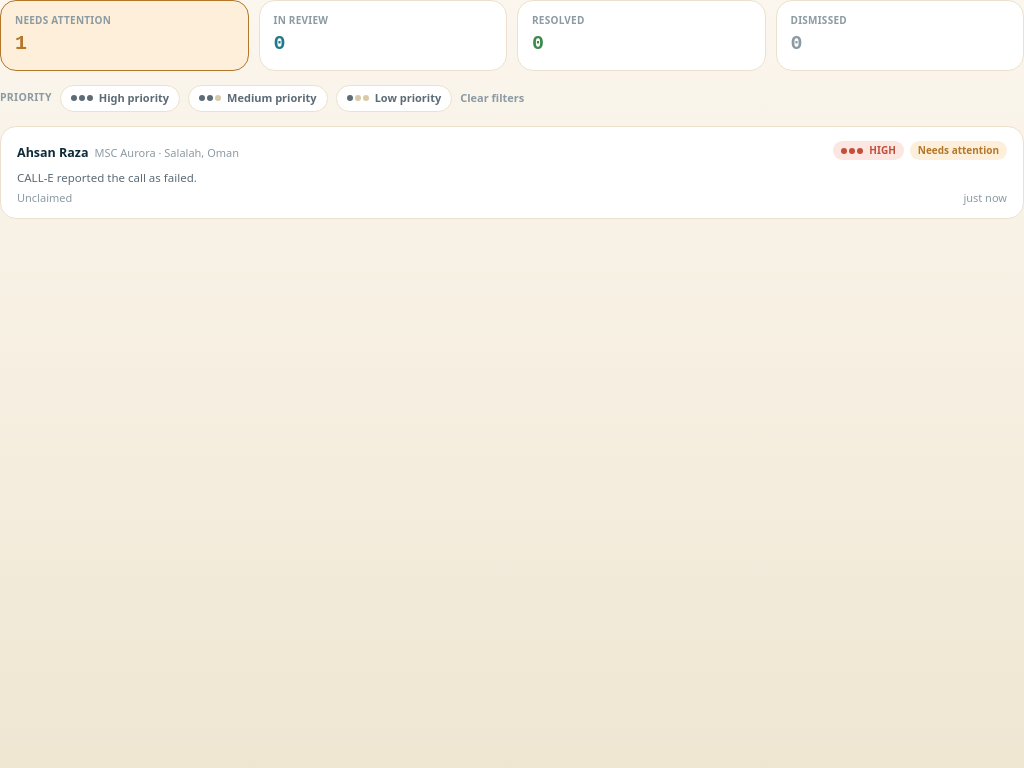
Scenario: YellowZonePage — assignment linkage hint › shows an informative hint when the underlying assignment is already resolved elsewhere
What coordinates should you click on to do the following:
click the text "Ahsan Raza"
I would click on:
 (53, 152)
Its box is [17,144,88,160].
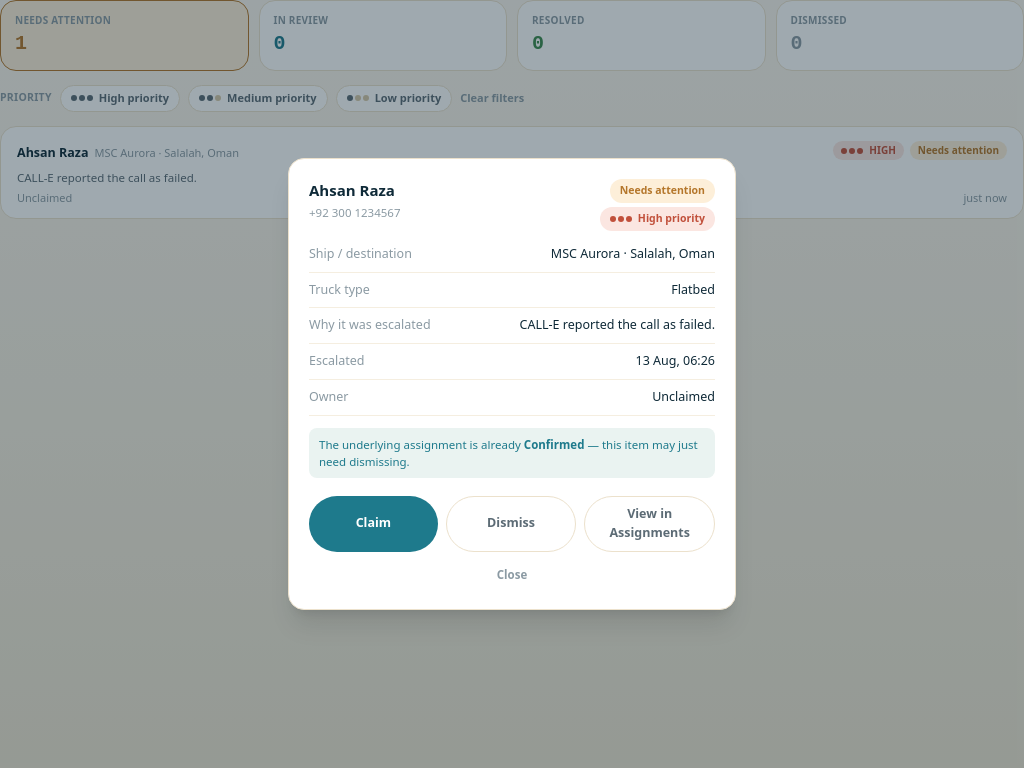
Expected: the text "already" shows "The underlying assignment is already Confirmed — this item may just need dismissing.", [309,428,715,478]
